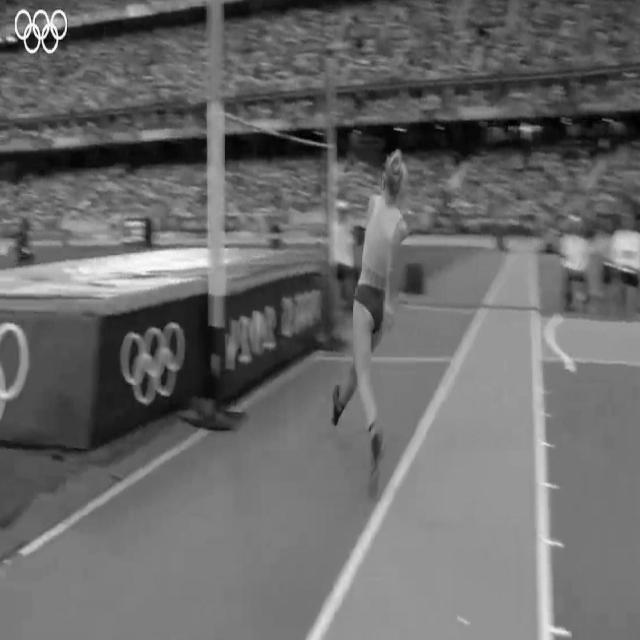run: (330, 143, 407, 496)
